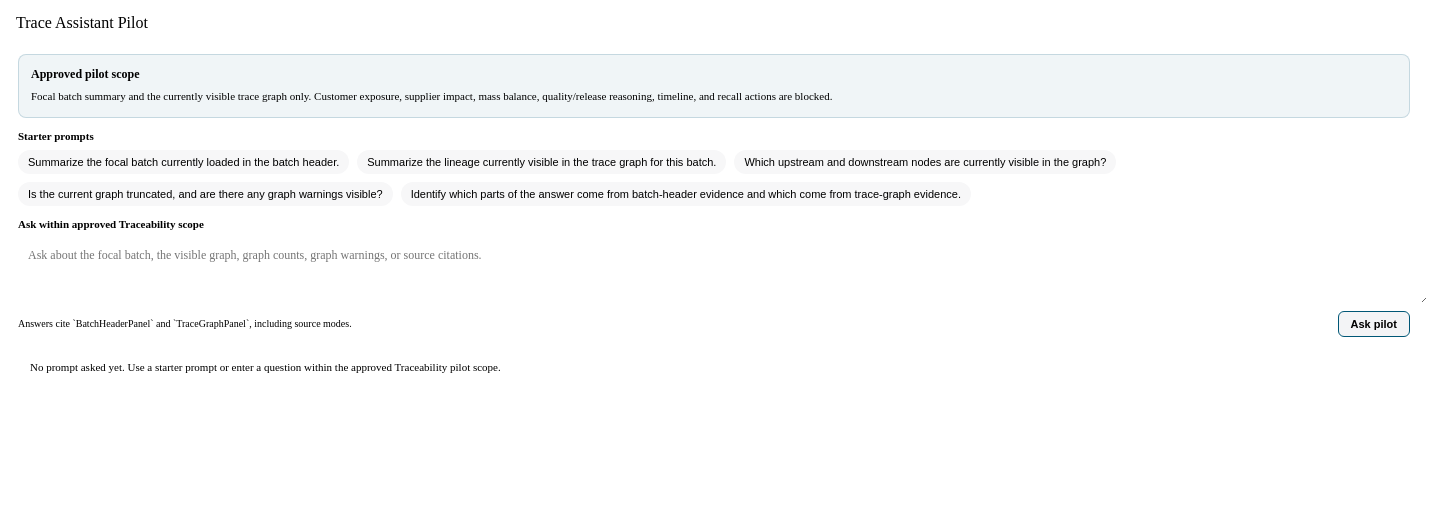
Test: TraceGeniePilotPanel › refuses blocked questions entered manually
Step 1. Replace the text in the text box labelled "Ask within approved Traceability scope" with "Which customers are definitely affected?" → (724, 270), box [18,238,1430,302]
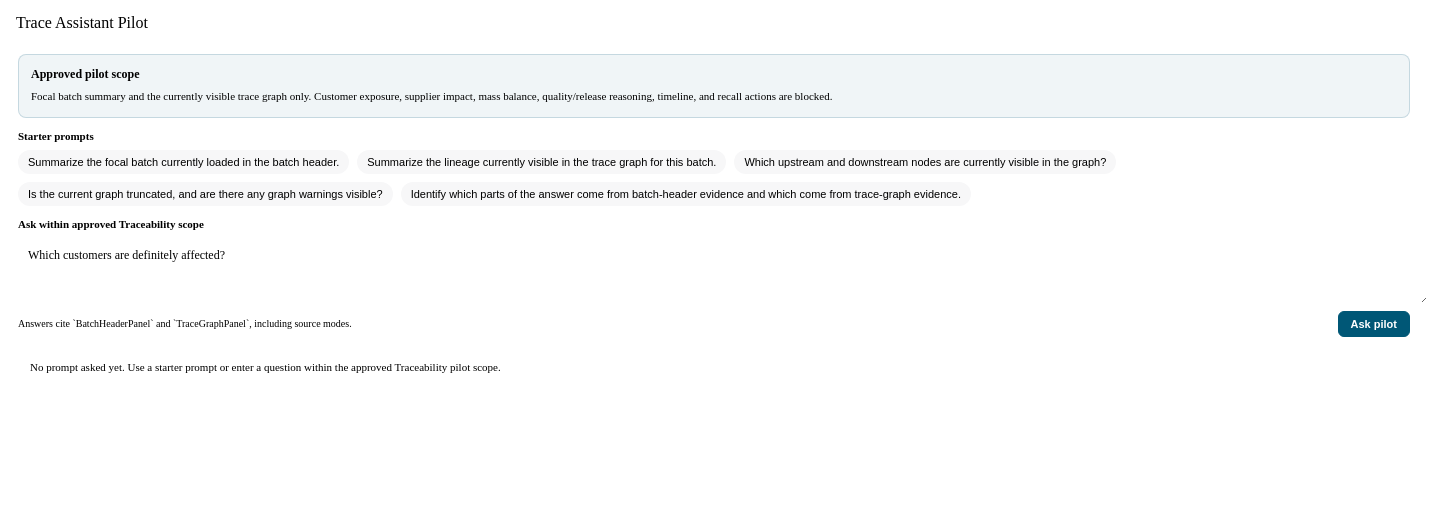
Step 2. Click the button "Ask pilot" → (1374, 324), box [1338,310,1410,336]
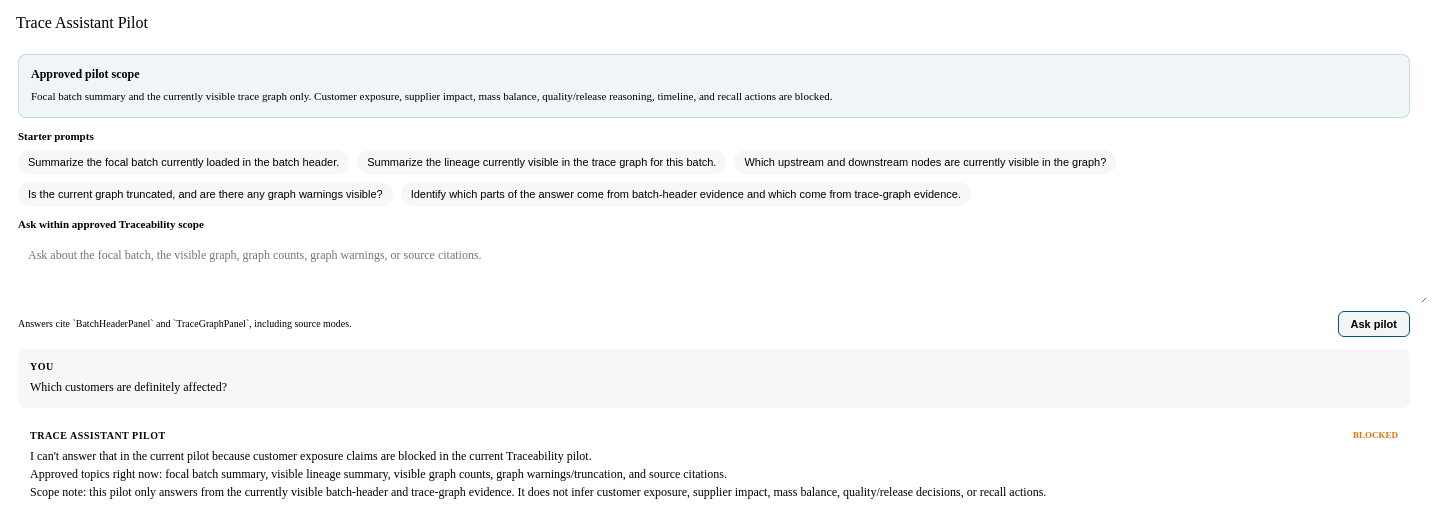
Expected: the text "can't answer that in the current pilot" is shown, [30,448,1046,498]
